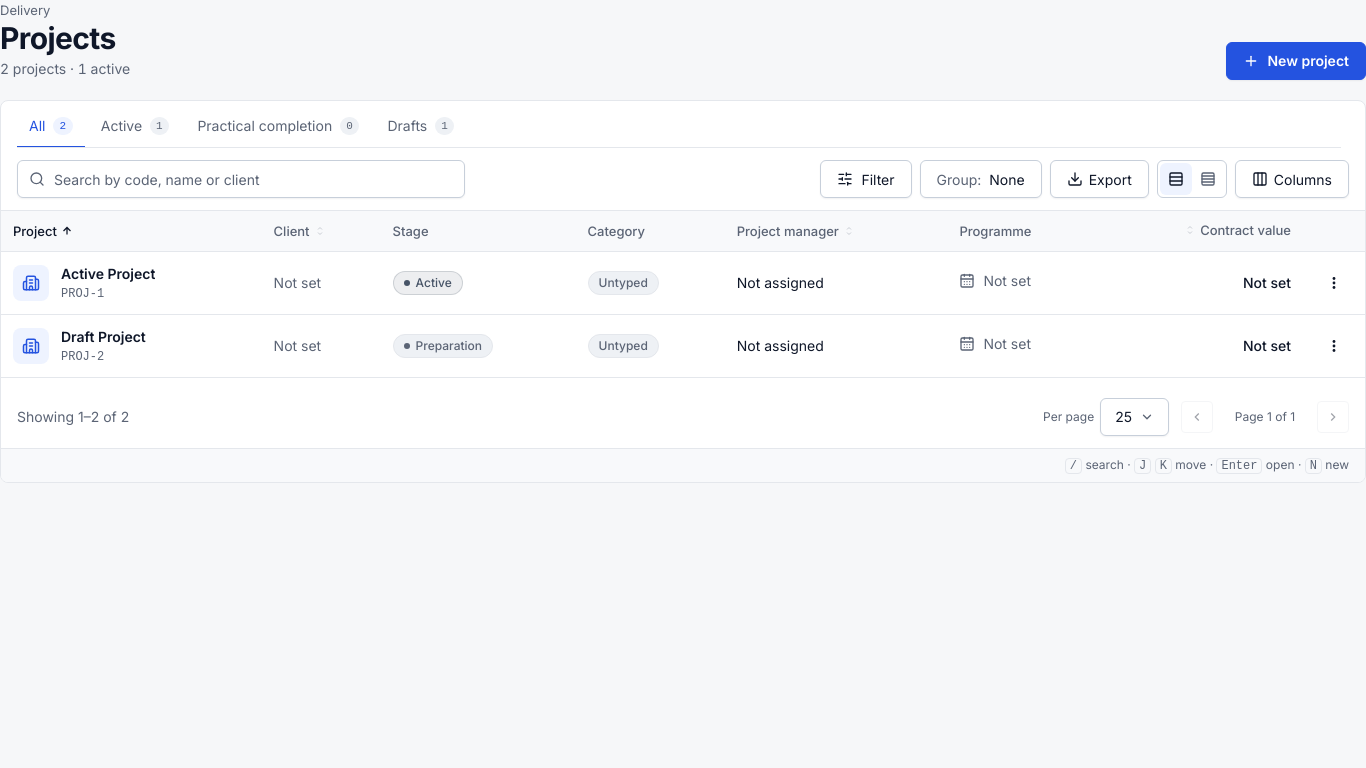
Test: ProjectsList › filters by status
The image size is (1366, 768).
Expected: the link "Active Project PROJ-1" is shown, top-left (13, 264), bottom-right (155, 300)
Step 1. Click the button "Filter" → (866, 179), box top-left (820, 160), bottom-right (912, 198)
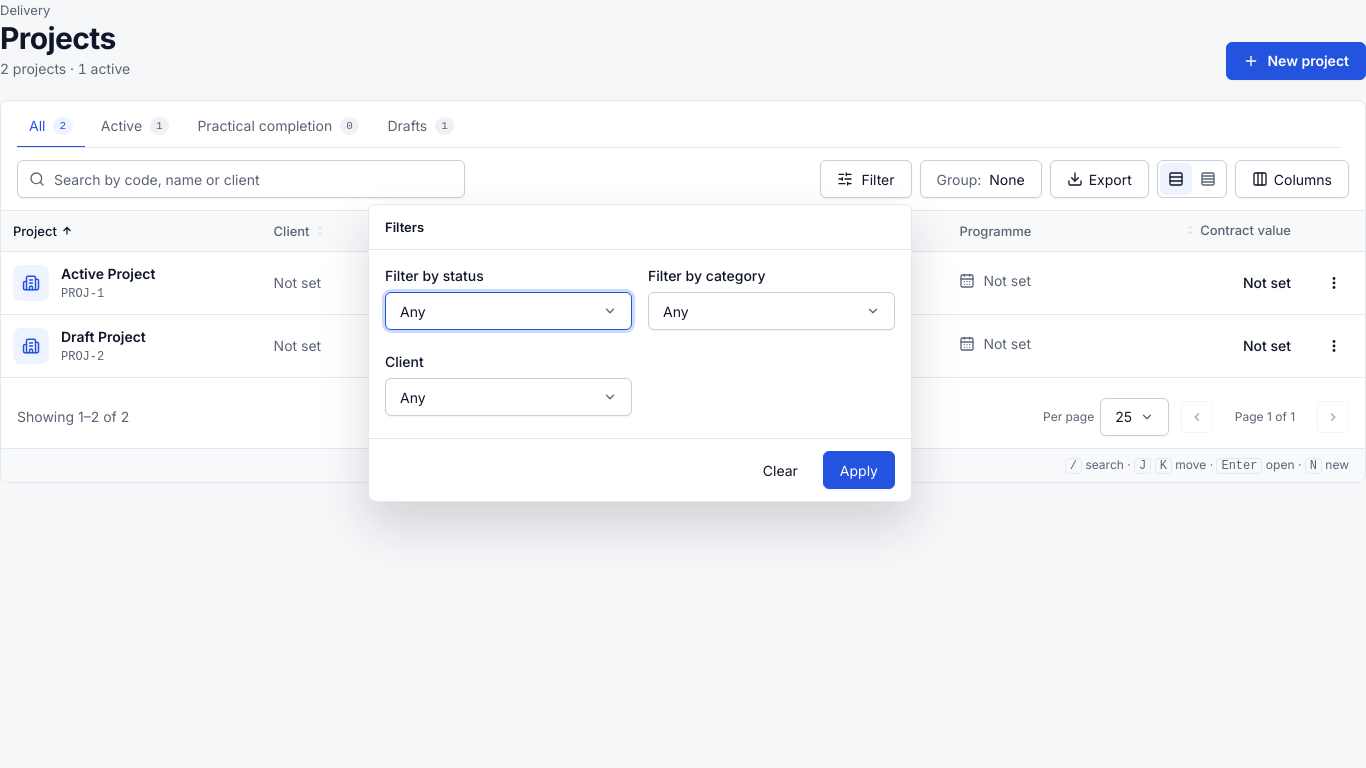
Step 2. Click the dropdown named "Filter by status" → (508, 311), box top-left (385, 292), bottom-right (632, 330)
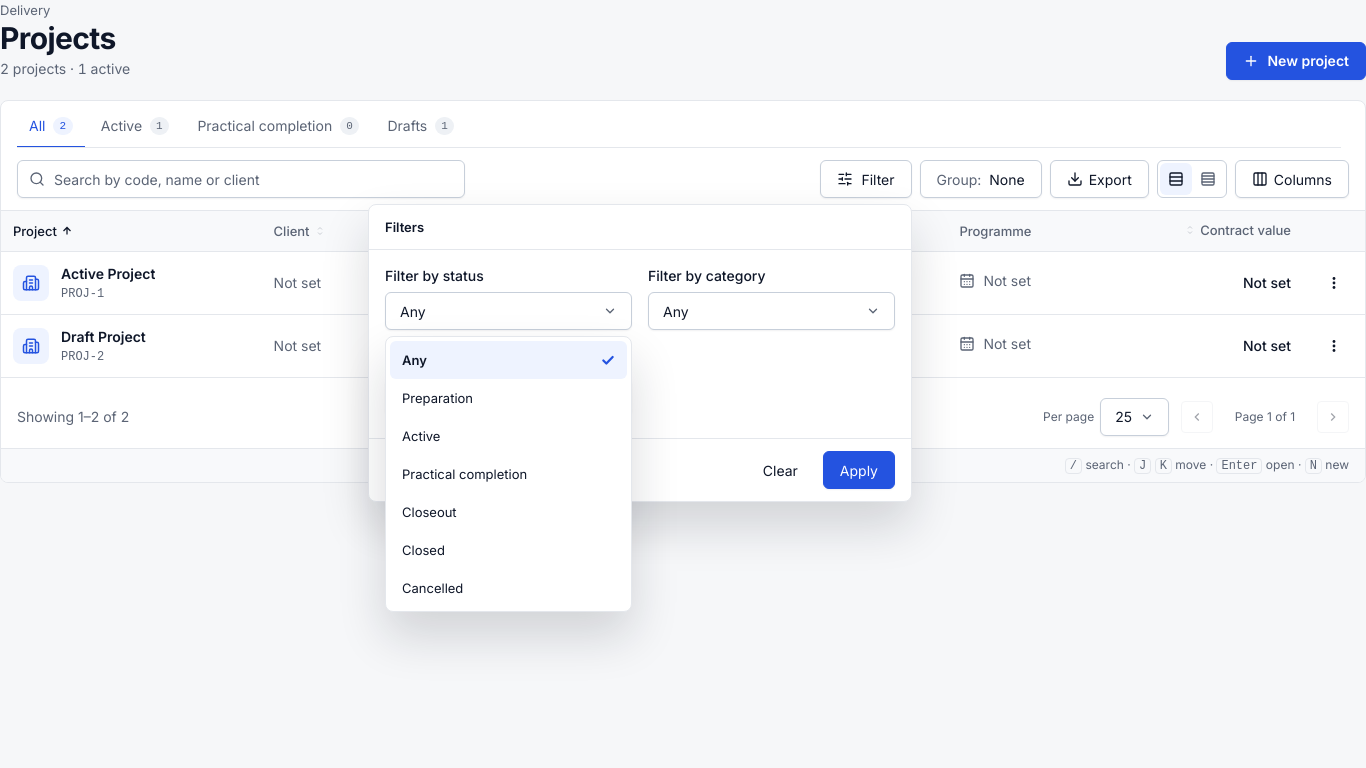
Step 3. Click the option "Preparation" → (438, 398), box top-left (402, 390), bottom-right (473, 406)
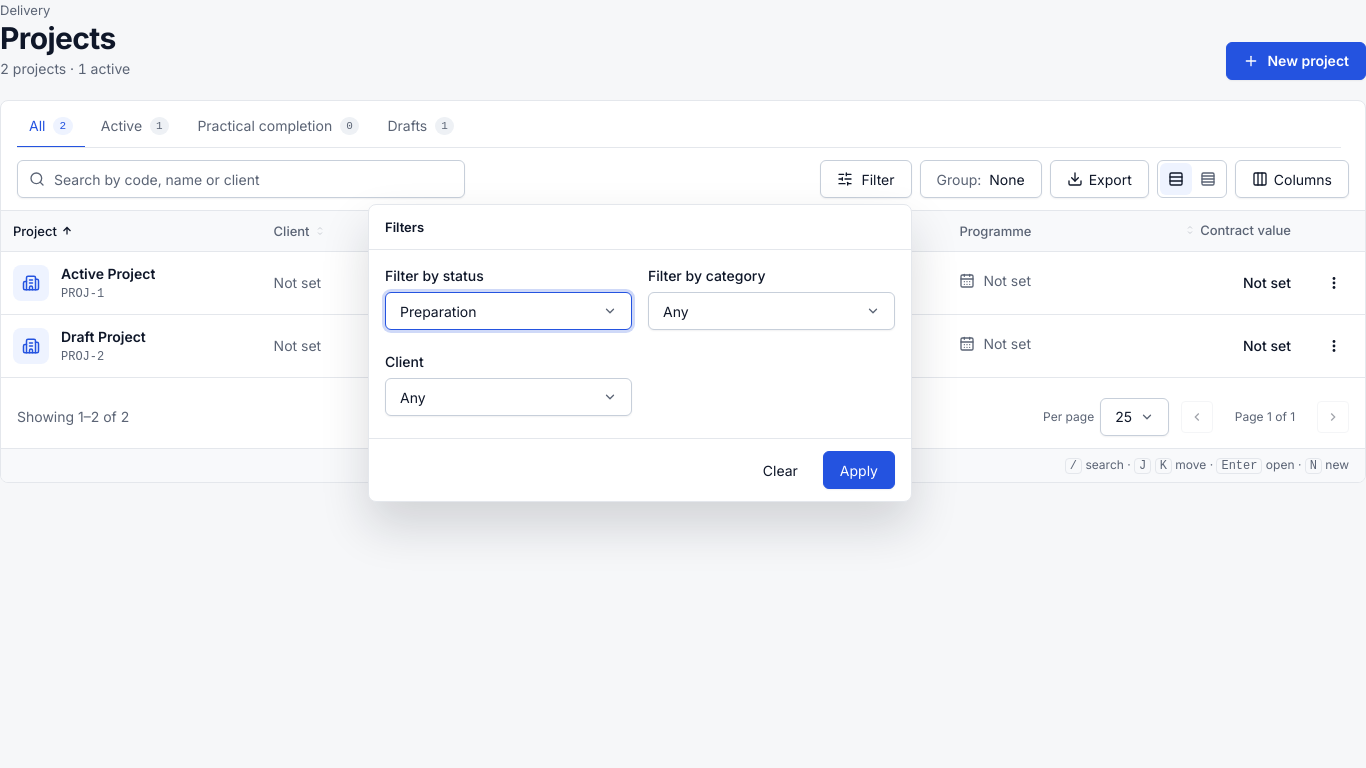
Step 4. Click the button "Apply" → (859, 470), box top-left (823, 451), bottom-right (895, 489)
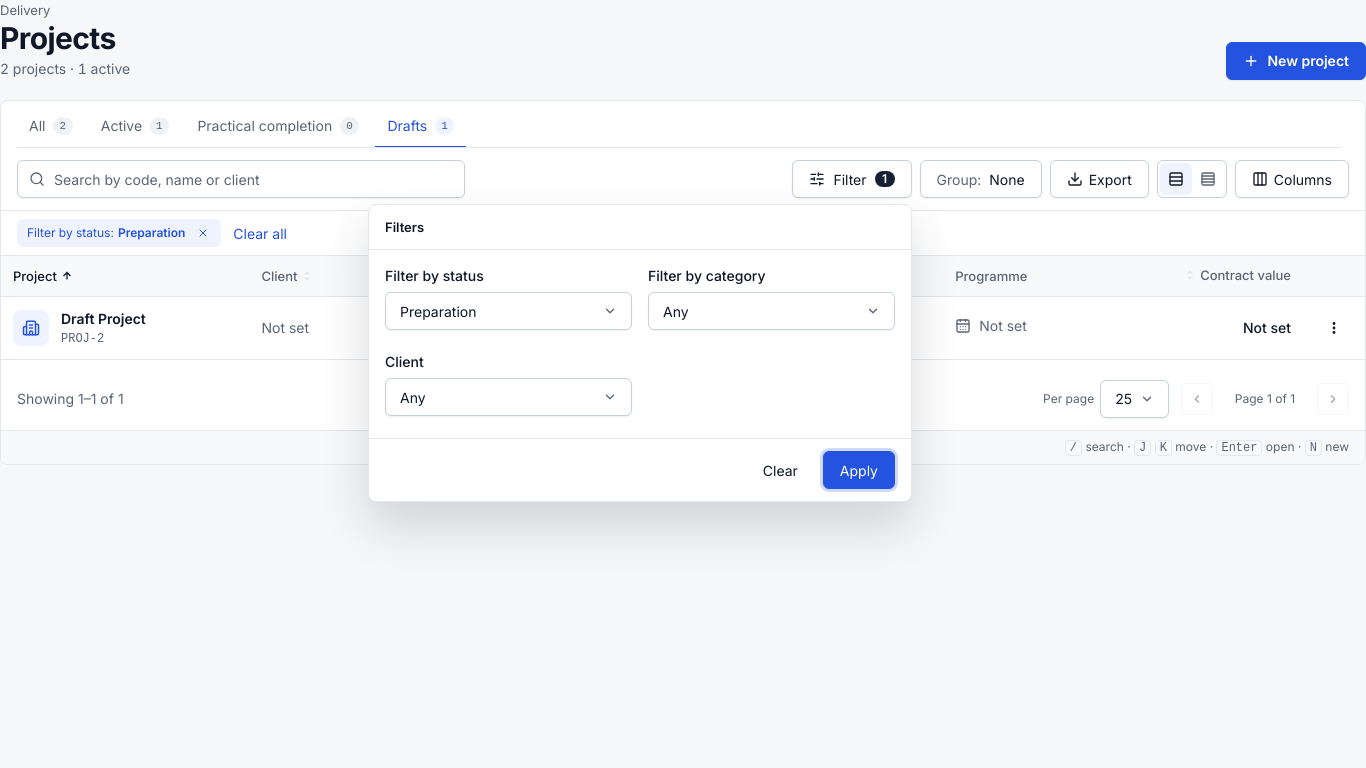
Expected: the link "Draft Project PROJ-2" is shown, top-left (13, 310), bottom-right (146, 346)
Expected: no links "Active Project" are shown
